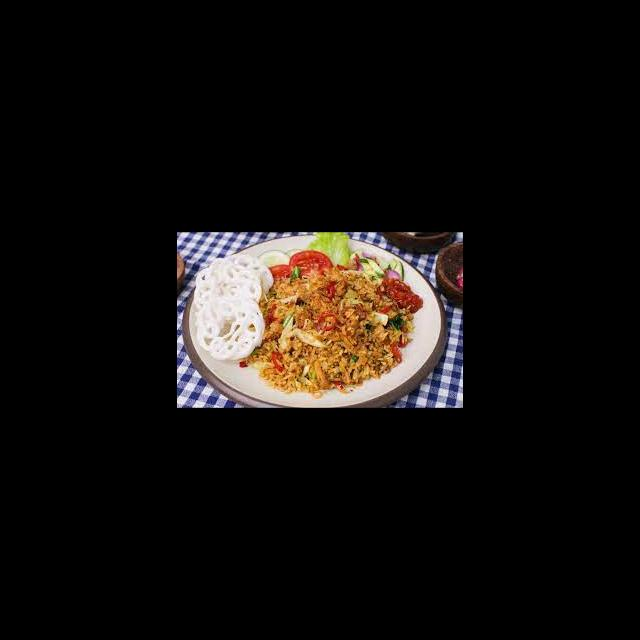food_waste: (267, 272, 391, 375)
